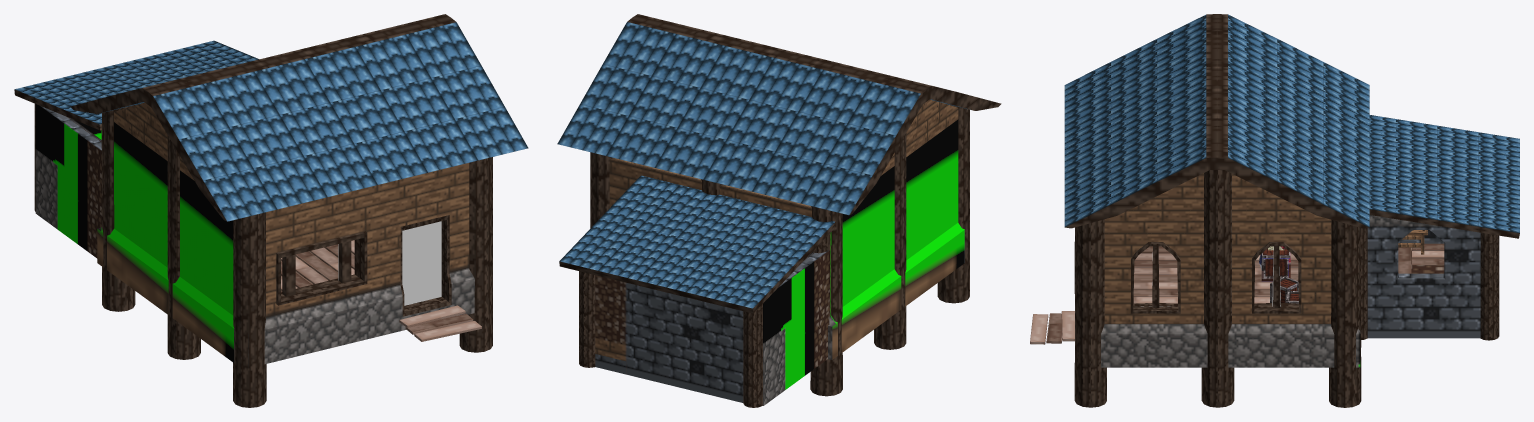
The model's file is ShopV4.fbx.
3 renders of one model, left to right at view 1: azimuth 30°, elevation 25°; view 2: azimuth 150°, elevation 25°; view 3: azimuth 270°, elevation 25°, orthographic. The views are drawn at different scales.
Visible parts, largest first — view 1: Cube.001, MainArea, MainArea.004, Backroom, Cube, MainArea.003, LIGHTCATCHER; view 2: Cube.001, MainArea, Cube, Backroom.002, Backroom, Backroom.003; view 3: Cube.001, MainArea.002, MainArea, Cube, Backroom.001, MainArea.003, Backroom, Backroom.003, Clutter, Inventory.
Part boxes in pixels (x1,y1,x2,y2): Cube.001: [70, 14, 528, 221]; MainArea: [97, 102, 492, 407]; MainArea.004: [248, 163, 474, 353]; Backroom: [34, 104, 101, 258]; Cube: [14, 40, 258, 130]; MainArea.003: [469, 157, 492, 298]; LIGHTCATCHER: [338, 221, 441, 305]; Cube.001: [557, 14, 1001, 215]; MainArea: [590, 99, 969, 396]; Cube: [559, 175, 835, 313]; Backroom.002: [595, 275, 743, 390]; Backroom: [579, 236, 829, 407]; Backroom.003: [579, 271, 595, 353]; Cube.001: [1064, 14, 1369, 228]; MainArea.002: [1101, 173, 1360, 354]; MainArea: [1030, 220, 1361, 407]; Cube: [1369, 115, 1519, 238]; Backroom.001: [1367, 215, 1480, 326]; MainArea.003: [1075, 170, 1231, 355]; Backroom: [1360, 228, 1499, 340]; Backroom.003: [1480, 233, 1499, 326]; Clutter: [1259, 246, 1290, 281]; Inventory: [1270, 276, 1298, 303].
Bounding box in the file's own units: 285 × 243 × 411.
4 materials, 4 textured.
